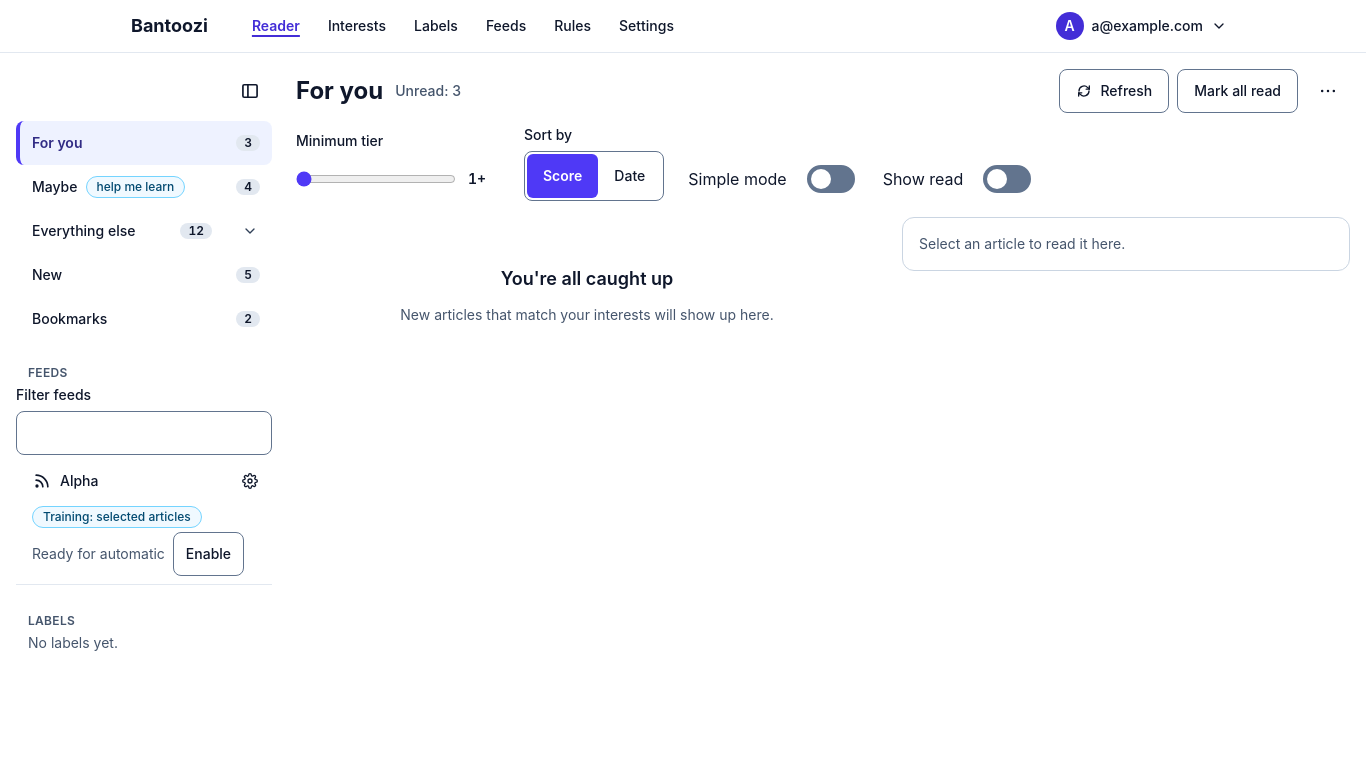
Test: the enable-automatic confirmation › says it without a number when the volume is not known
Click the button with aria-label "Enable automatic classification for Alpha".
click(208, 554)  # box [173,532,244,576]
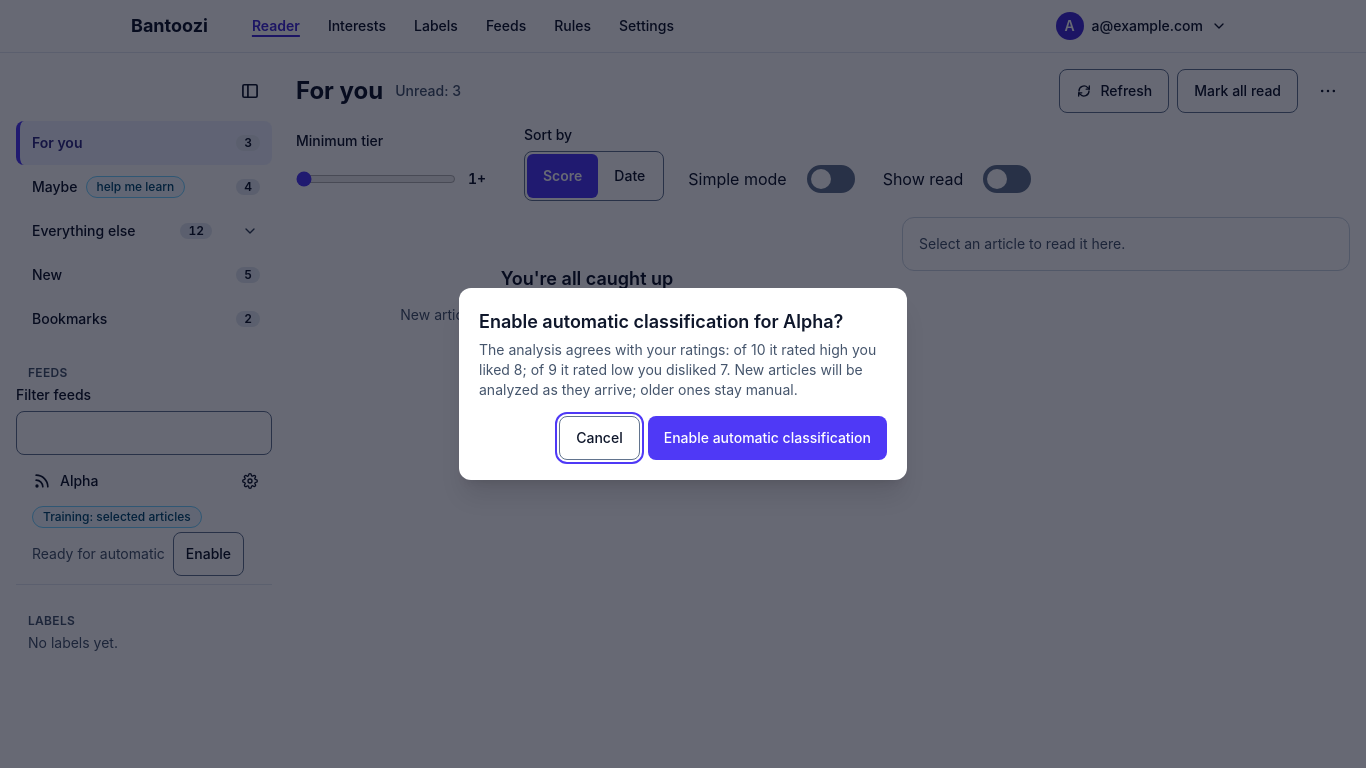
Check: the text "New articles will be analyzed as they arrive; older ones stay manual." is shown, box [479,361,863,398]
